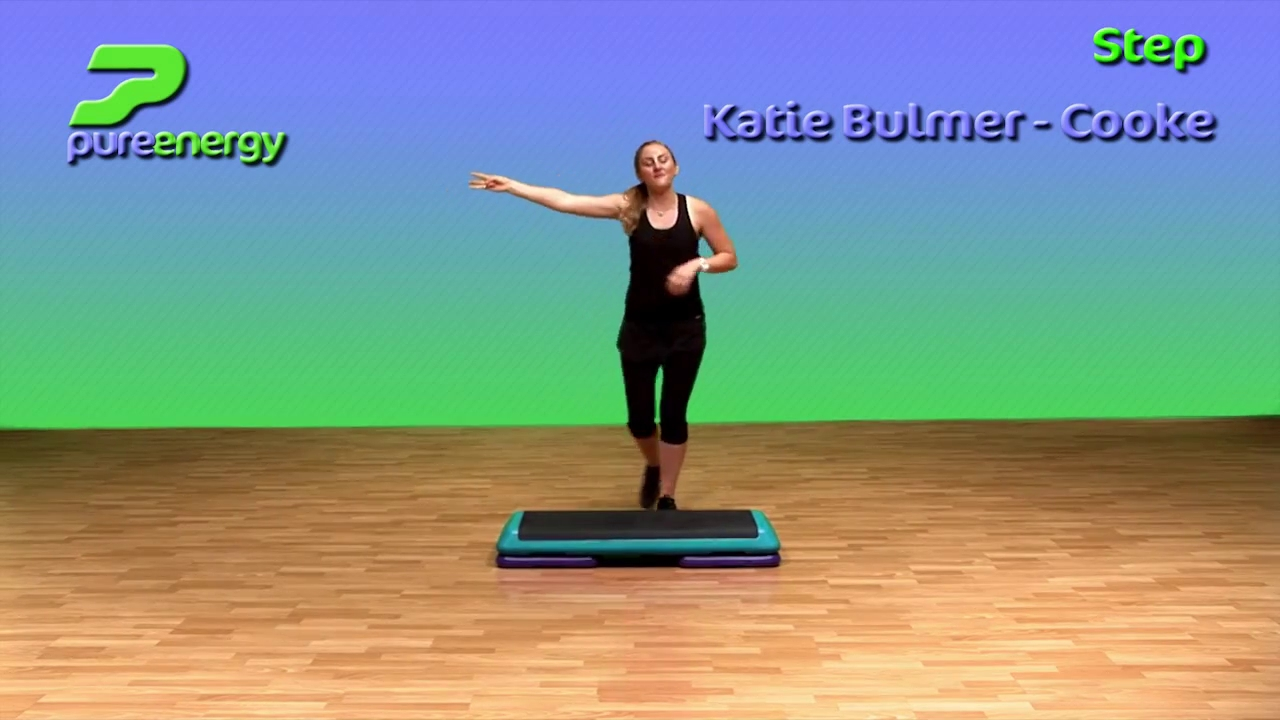person: (469, 140, 739, 509)
